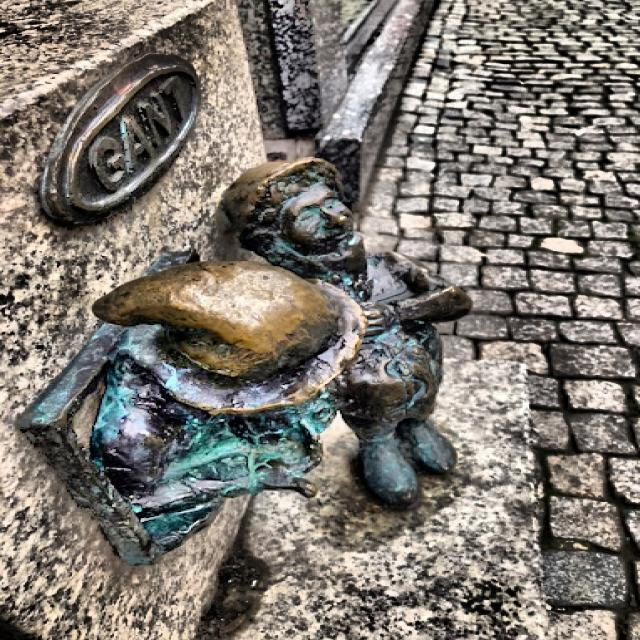Kantorki: (18, 159, 471, 563)
